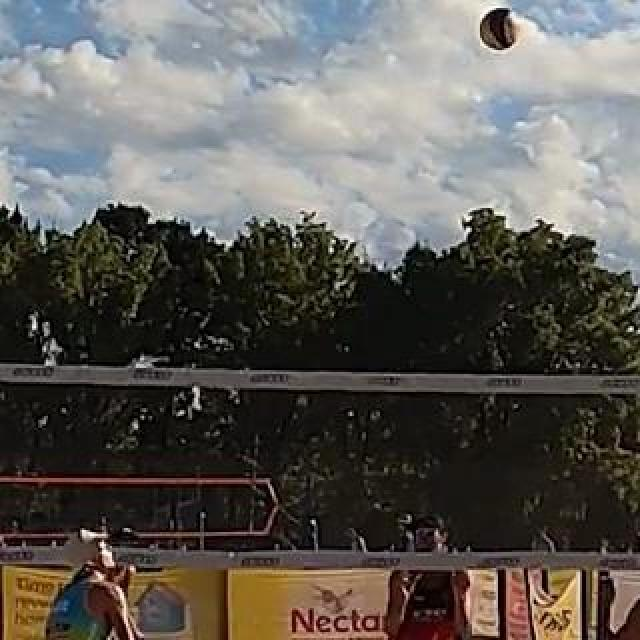volleyball: (478, 9, 520, 51)
